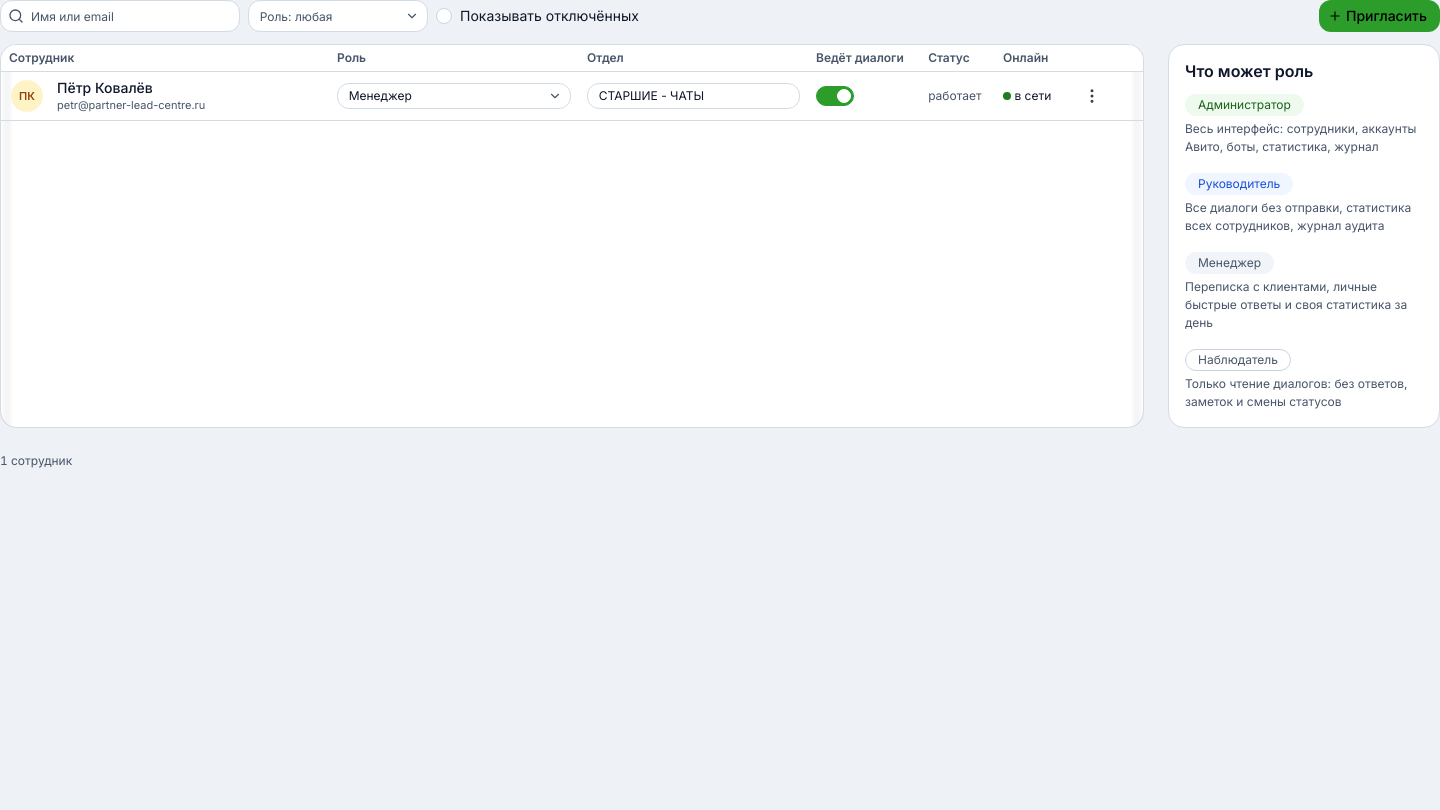
Scenario: Команда — сохранение видно, ошибка названа честно › отказ правки почты — словами сервера и один раз, в окне (проверка 24.09)
The image size is (1440, 810).
Expected: the table is shown, [1,45,1143,121]
Step 1. Click the button named "Действия: Пётр Ковалёв" → (1092,96), box [1072,76,1112,116]
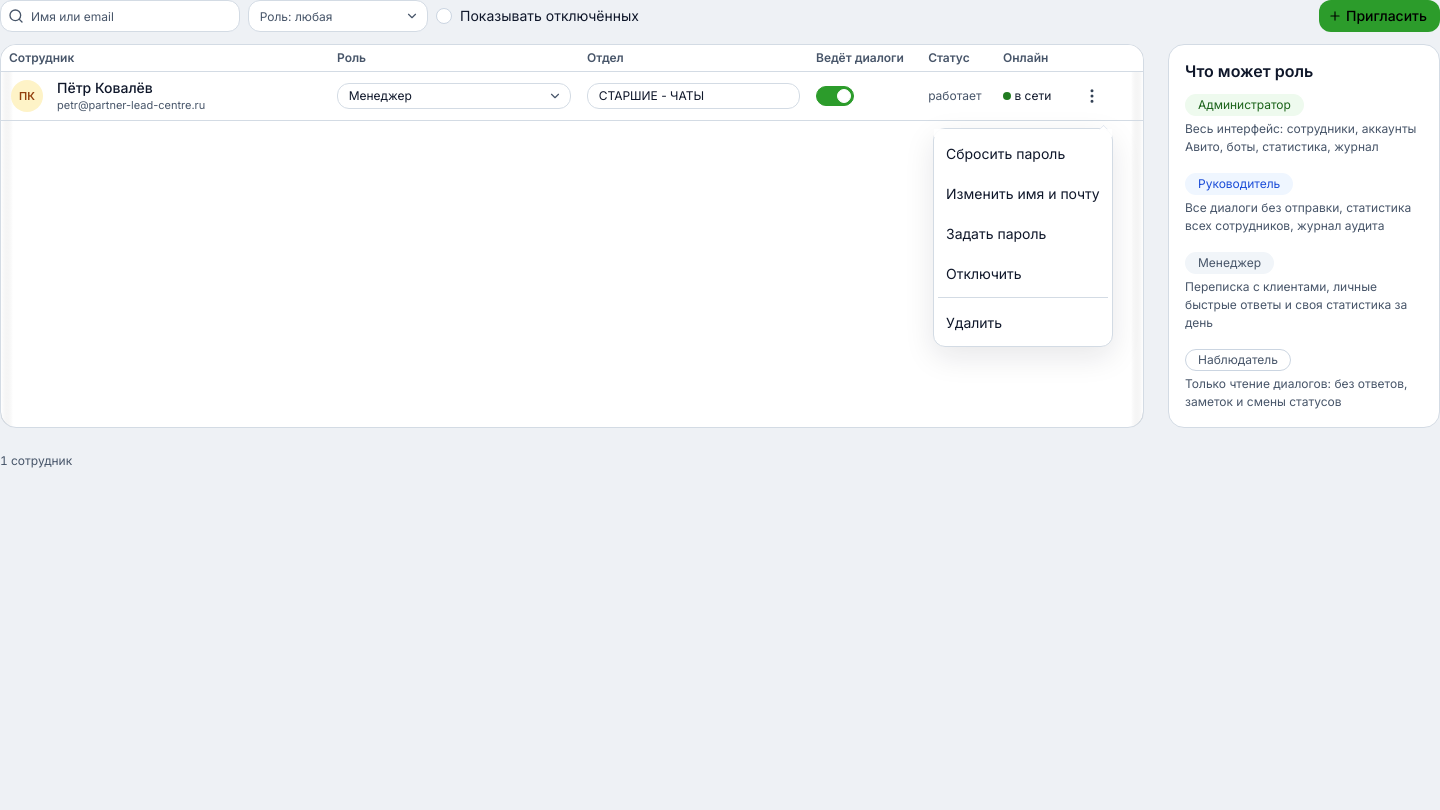
Step 2. Click the menu item "Изменить имя и почту" → (1023,192), box [938,172,1107,212]
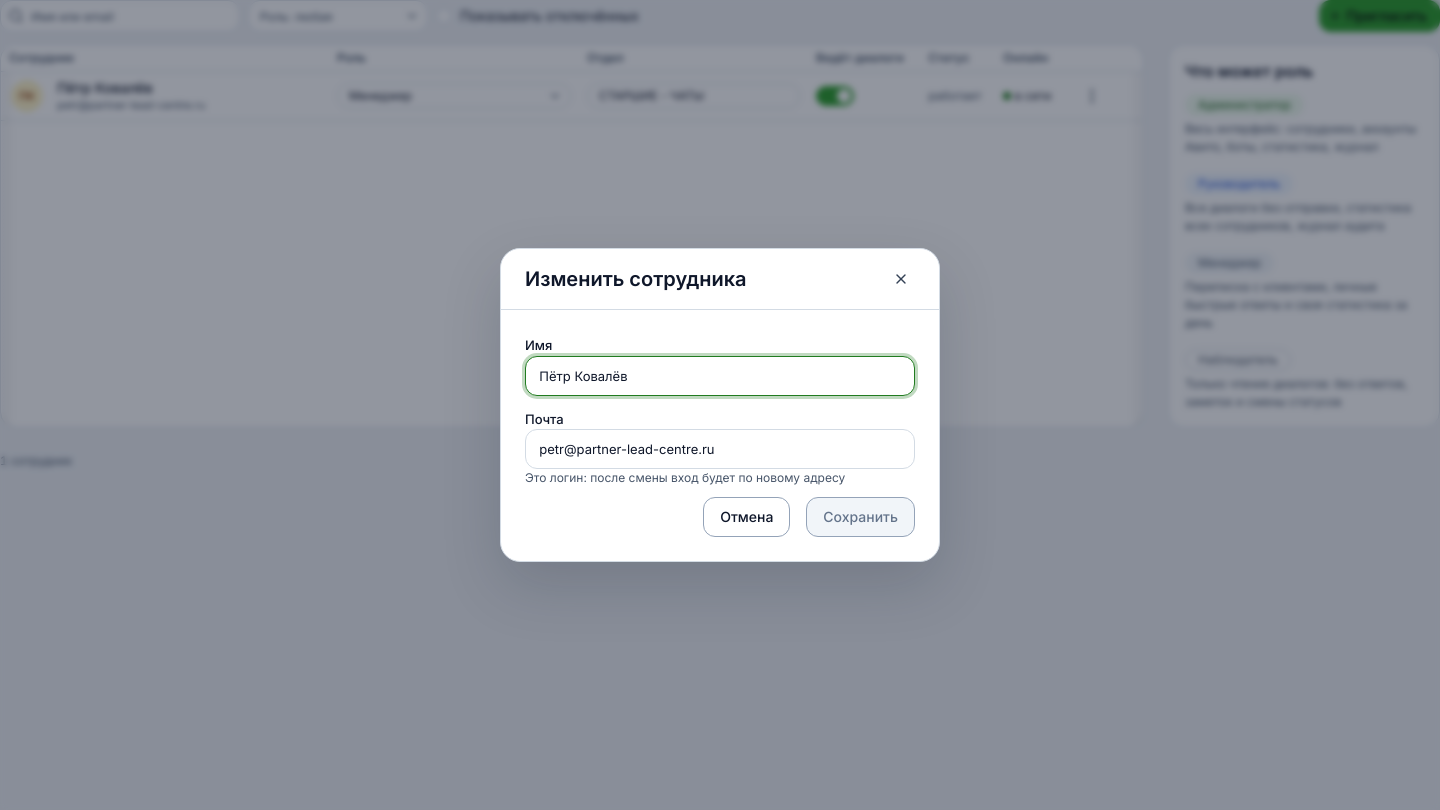
Step 3. Replace the text in the field labelled "Почта" with "petr.partner-lead-centre.ru" → (720,449), box [525,429,915,469]
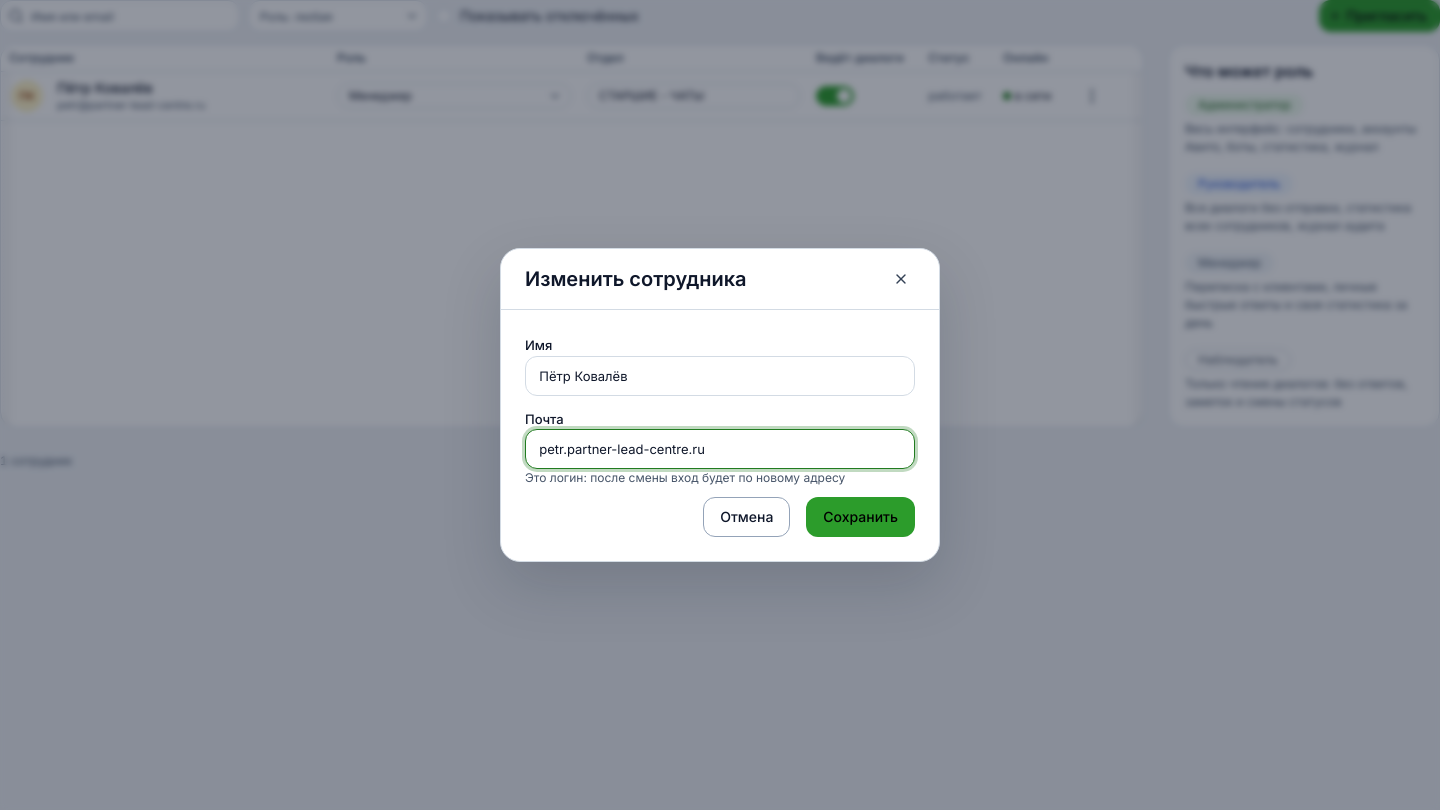
Step 4. Click the button "Сохранить" → (861,517), box [806,497,915,537]
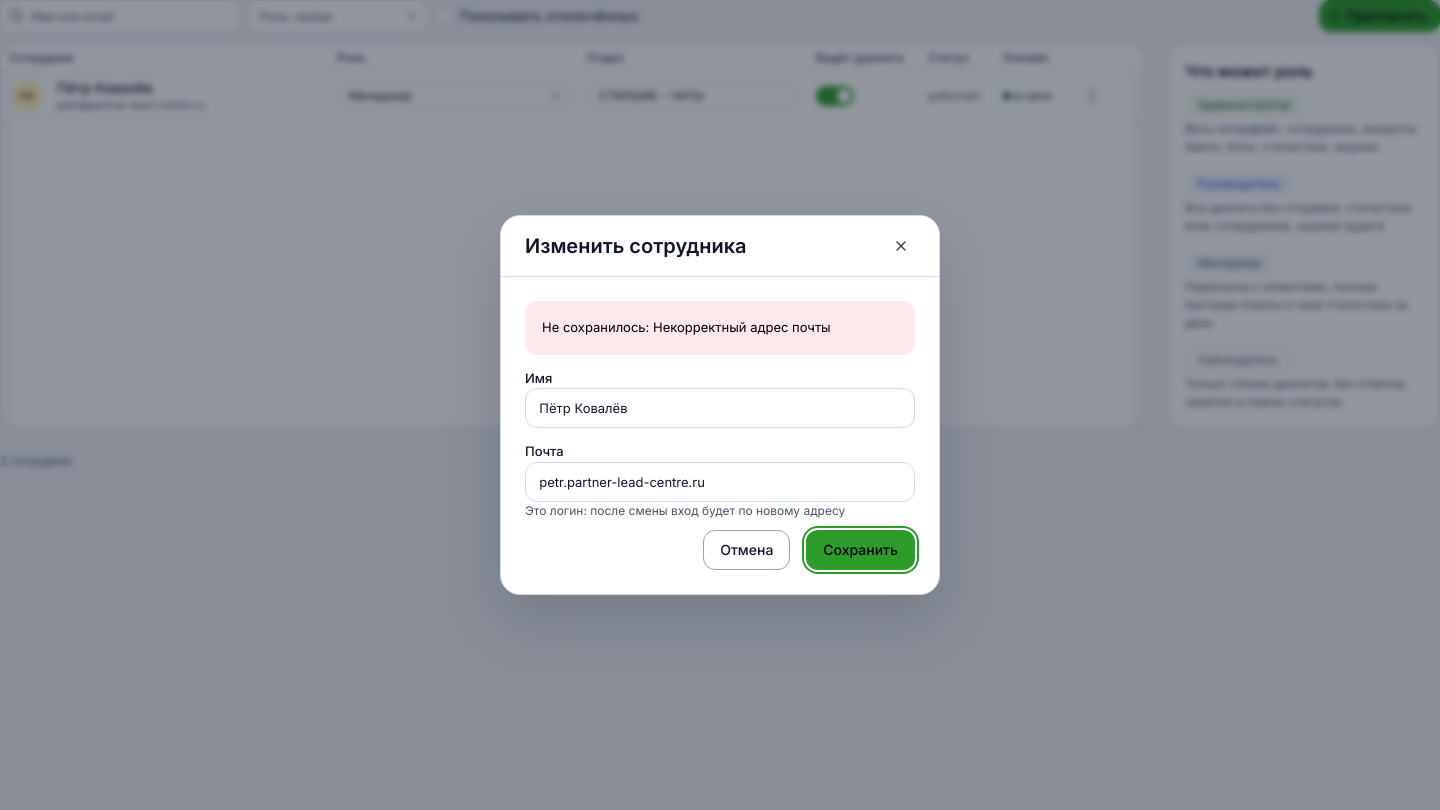
Expected: the number of messages is 1, [525,301,915,354]
Expected: the message reads "Не сохранилось: Некорректный адрес почты", [542,319,831,335]
